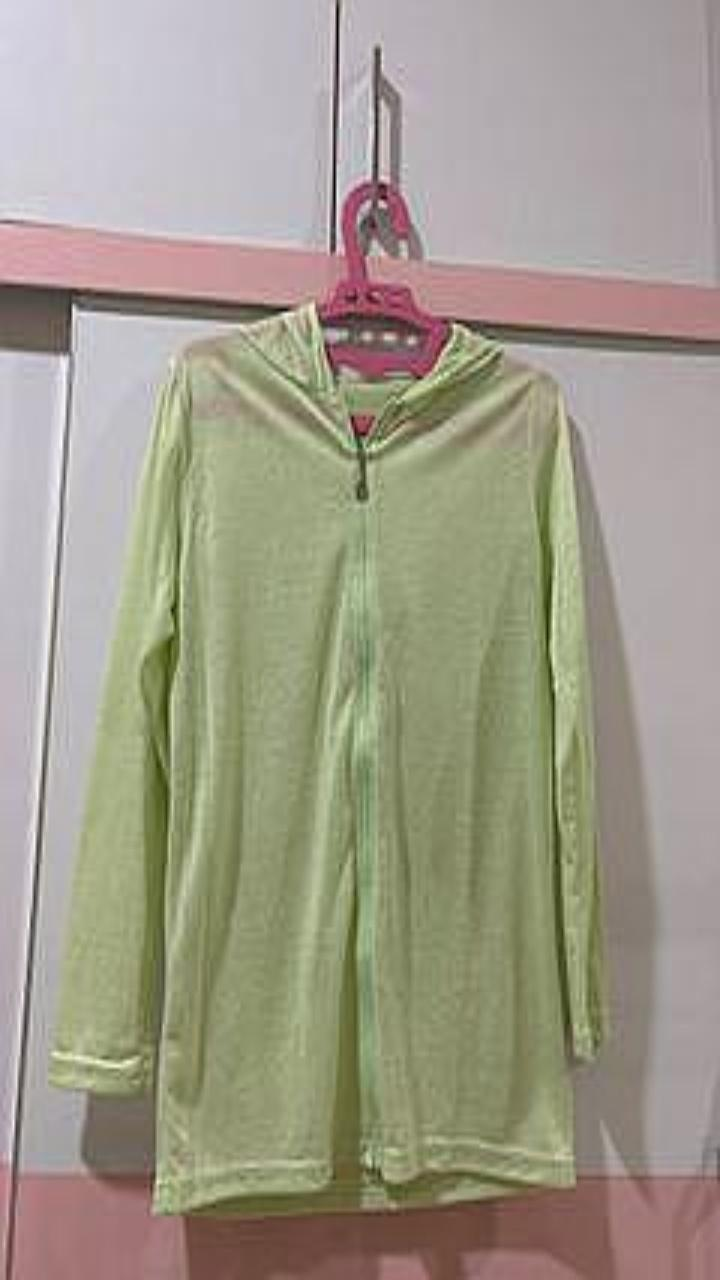T-Shirt: (49, 301, 608, 1214)
